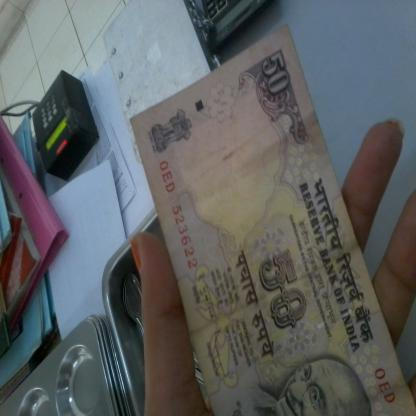Old50Front: (128, 24, 416, 416)
